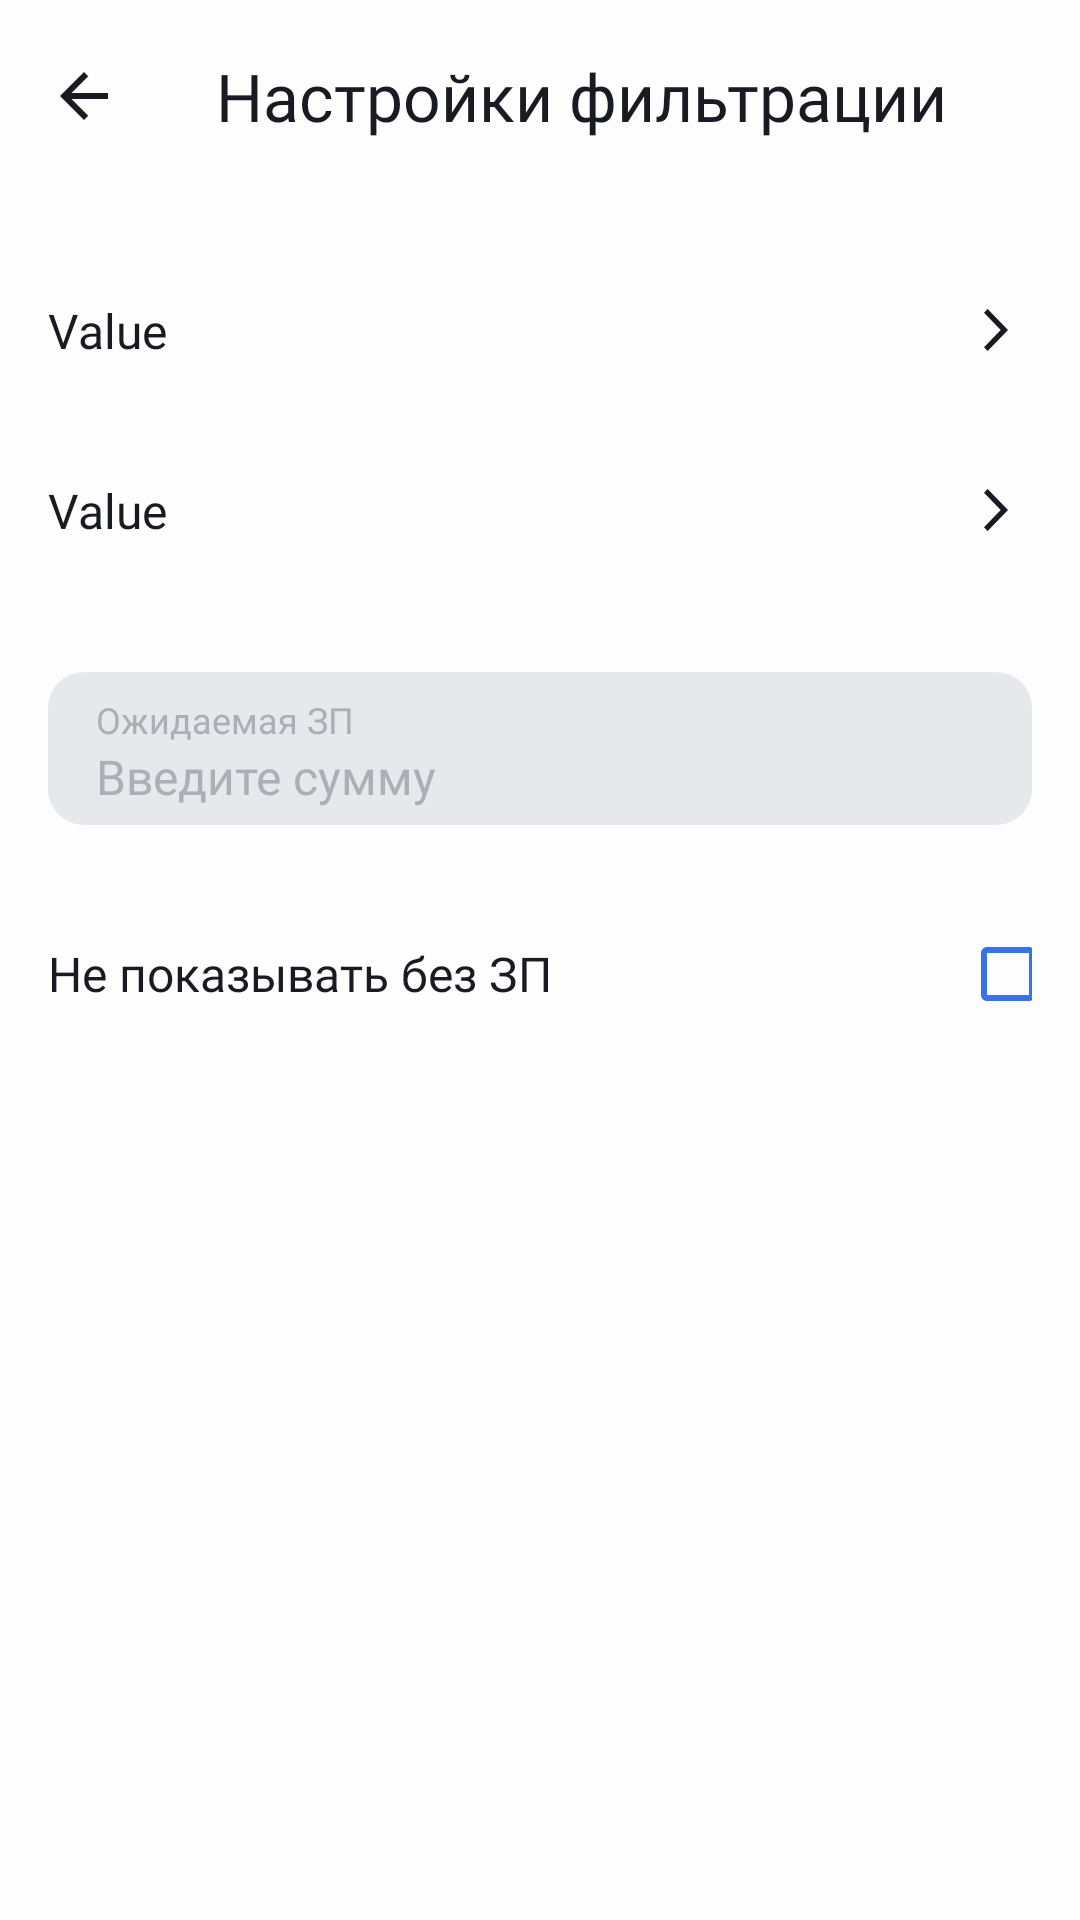

Icon bounding boxes for this 1080 × 1920 phone screenshot, format [x1=x1, y1=y1, x2=x2, y2=y2]:
кнопка-стрелочка: [x1=984, y1=309, x2=1008, y2=351], [x1=984, y1=489, x2=1008, y2=531]
